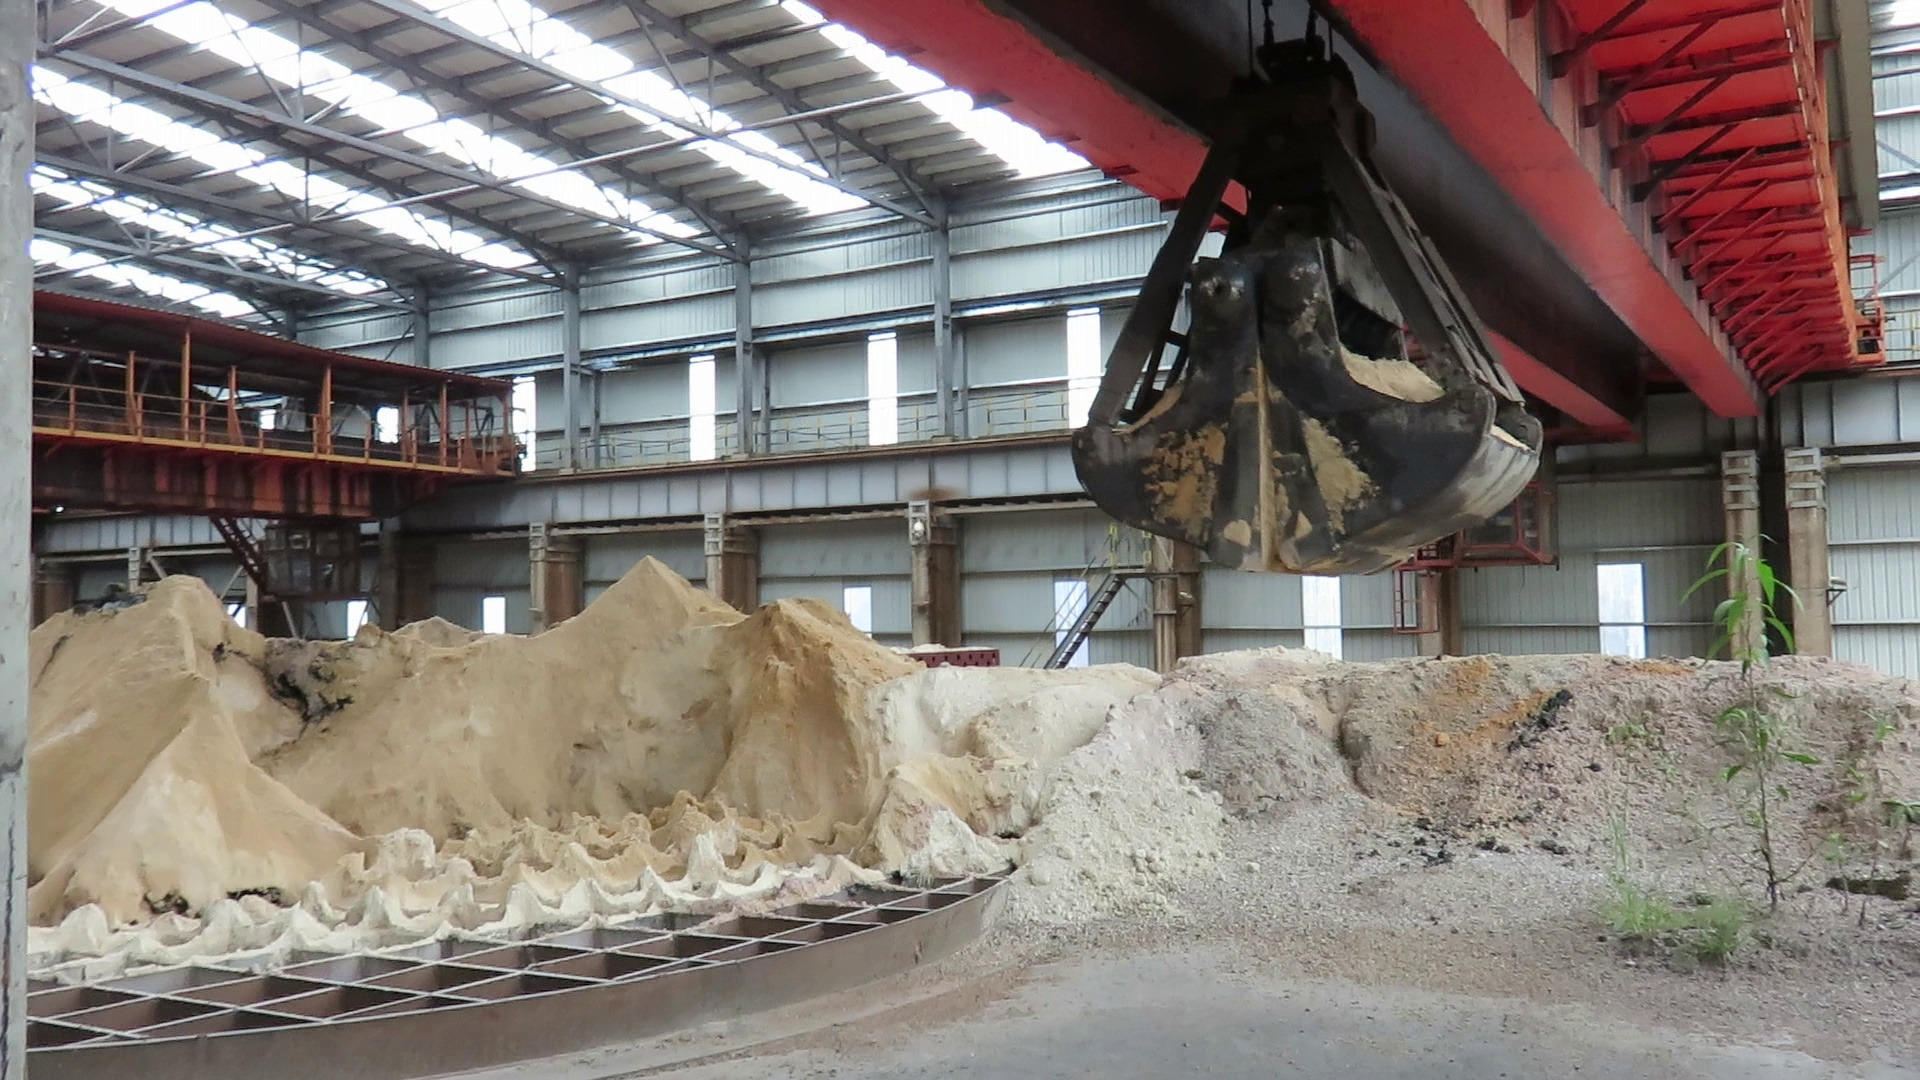grab: (1062, 13, 1545, 585)
